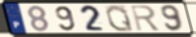2: (79, 4, 108, 33)
8: (26, 4, 50, 32)
9: (160, 4, 185, 32), (55, 5, 76, 31)
Q: (105, 4, 136, 33)
R: (129, 4, 162, 32)
